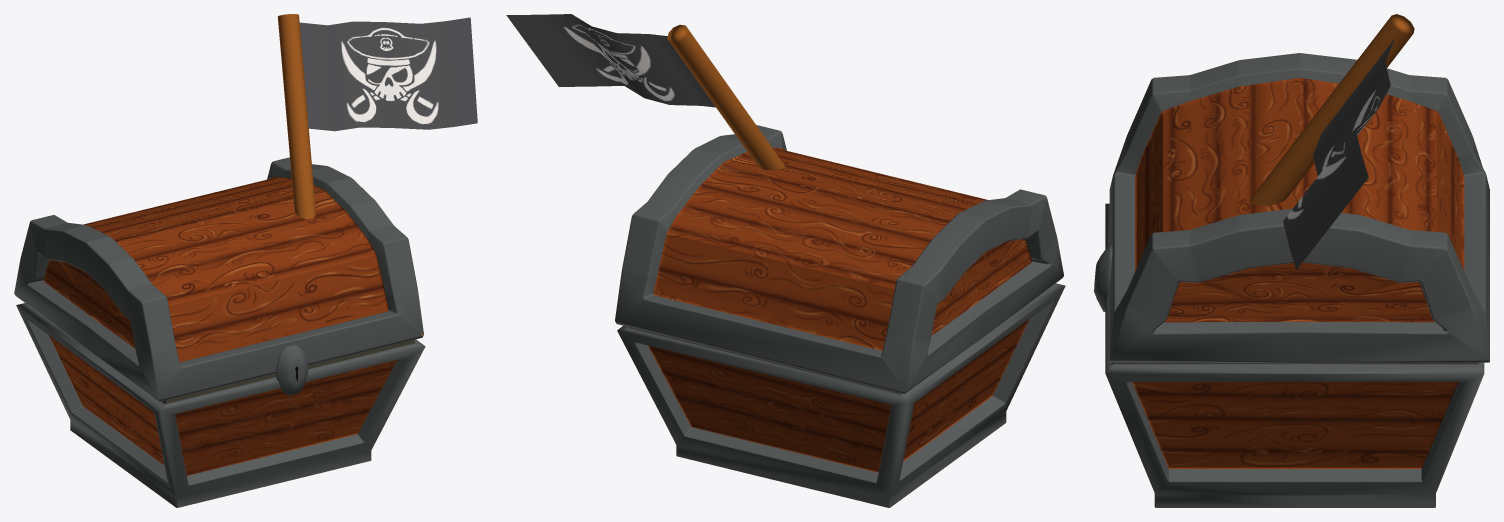
Rendered from Coffre 2 anim drapeau.fbx.
The picture shows the model from 3 angles, left to right: view 1: azimuth 30°, elevation 25°; view 2: azimuth 150°, elevation 25°; view 3: azimuth 270°, elevation 25°; orthographic projection. The views are drawn at different scales.
Visible parts, largest first — view 1: polySurface2, bas, drapeau1; view 2: polySurface2, bas, drapeau1; view 3: polySurface2, bas, drapeau1.
Boxes of the visible parts, x1,y1,x2,y2 form: polySurface2: (14, 14, 423, 401); bas: (16, 303, 425, 507); drapeau1: (299, 17, 477, 131); polySurface2: (615, 24, 1063, 393); bas: (617, 283, 1065, 507); drapeau1: (506, 14, 715, 107); polySurface2: (1094, 14, 1489, 362); bas: (1105, 203, 1484, 507); drapeau1: (1283, 38, 1394, 269).
Bounding box in the file's own units: 3.29 × 2.87 × 2.07.
1 material, 1 textured.
